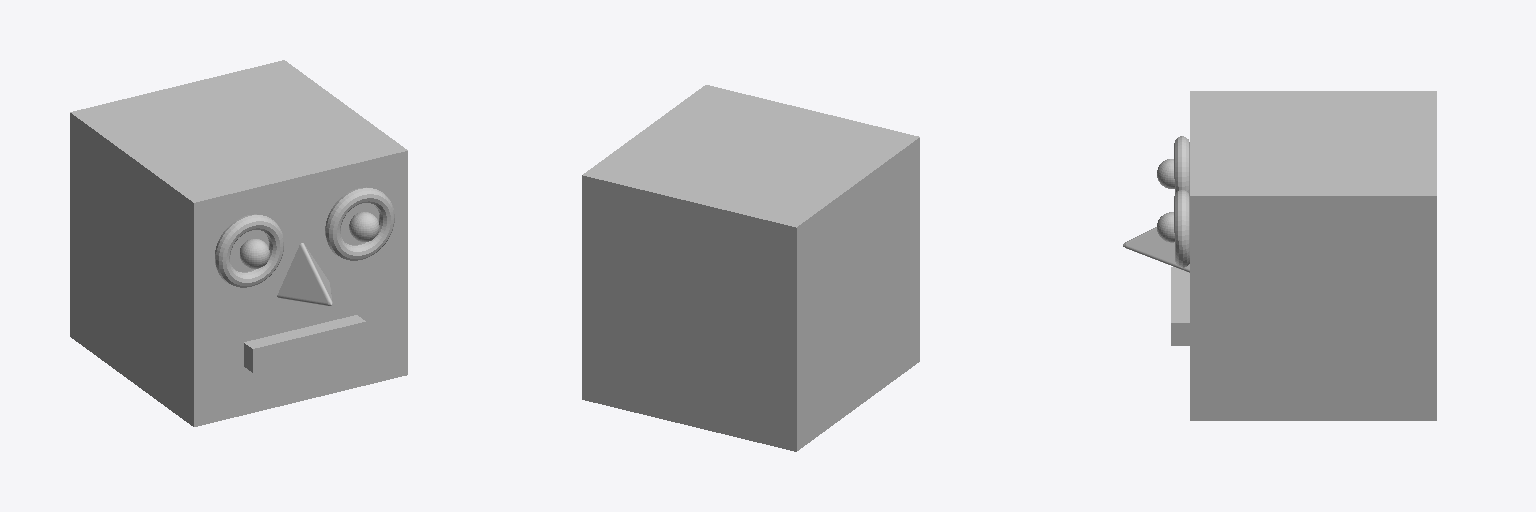
File: texture_test.obj
The picture shows the model from 3 angles: view 1: azimuth 30°, elevation 25°; view 2: azimuth 150°, elevation 25°; view 3: azimuth 270°, elevation 25°; orthographic projection.
Parts seen in each view (by area): view 1: Face_Cube.002, Mouth_Cube.004, Torus.000_Torus.006, Torus.005, Nose_Cone, Sphere.001, Sphere; view 2: Face_Cube.002; view 3: Face_Cube.002, Mouth_Cube.004, Torus.000_Torus.006, Nose_Cone, Torus.005.
Boxes of the visible parts, box(x1,y1,x2,y2) form: Face_Cube.002: box(70, 60, 407, 426); Mouth_Cube.004: box(244, 315, 365, 372); Torus.000_Torus.006: box(325, 187, 394, 260); Torus.005: box(215, 214, 283, 287); Nose_Cone: box(277, 243, 332, 305); Sphere.001: box(349, 212, 379, 241); Sphere: box(240, 239, 269, 268); Face_Cube.002: box(582, 85, 919, 451); Face_Cube.002: box(1190, 91, 1436, 420); Mouth_Cube.004: box(1171, 267, 1189, 345); Torus.000_Torus.006: box(1174, 190, 1189, 267); Nose_Cone: box(1123, 227, 1189, 272); Torus.005: box(1174, 136, 1189, 195).
Size of the model in its own units: 2 by 2 by 2.54.